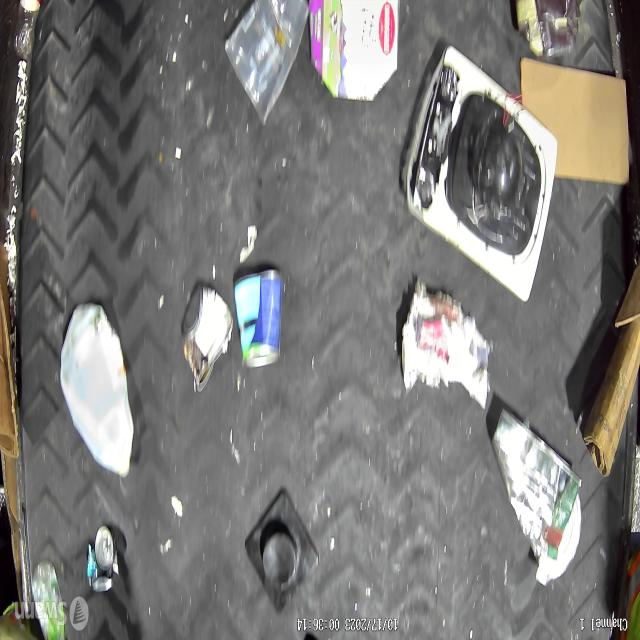can: (182, 284, 233, 393), (234, 268, 284, 371), (85, 524, 118, 596)
milk_jug: (59, 302, 134, 479)
plastic_bottle: (30, 560, 65, 640)
